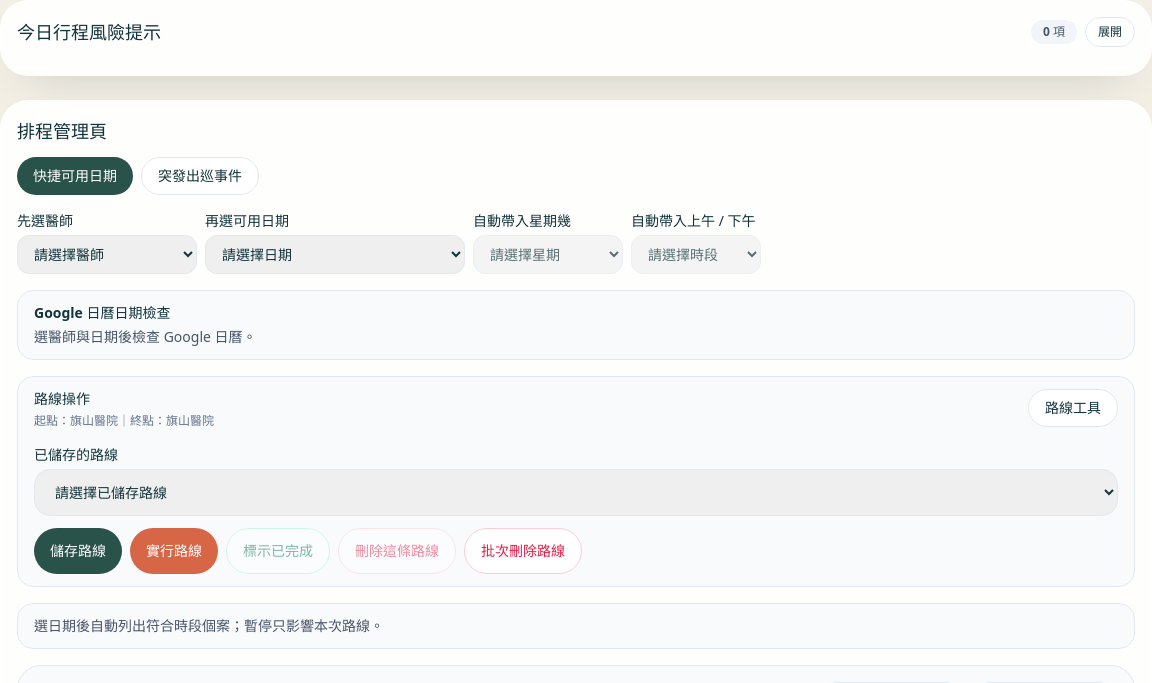
AdminPages › AdminSchedulesPage 會依醫師可服務時段原始順序帶入同日預設時段
The image size is (1152, 683).
Select "蕭坤元醫師" in the dropdown named "篩選醫師" at (107, 254), box [17, 235, 197, 274]
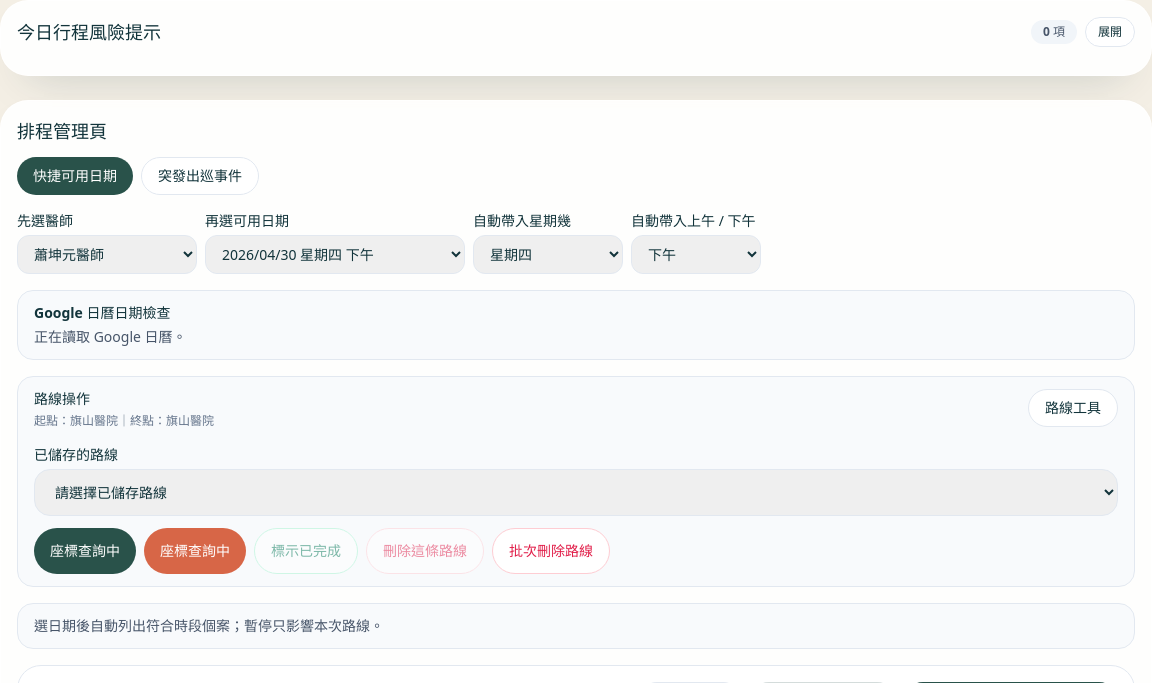
Select "2026/05/06 星期三 上午、下午" in the dropdown named "路線日期" at (335, 254), box [205, 235, 465, 274]
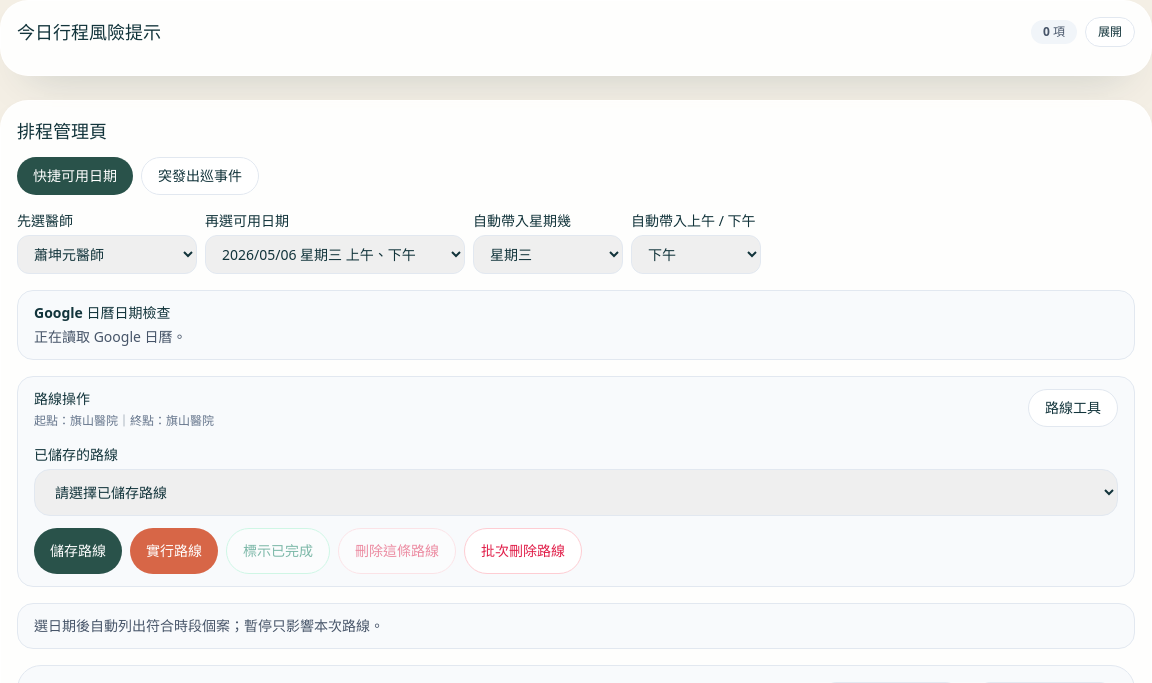
expect the dropdown named "篩選時段" shows "下午": met, box [631, 235, 761, 274]
expect the dropdown named "篩選星期" shows "星期三": met, box [473, 235, 623, 274]
